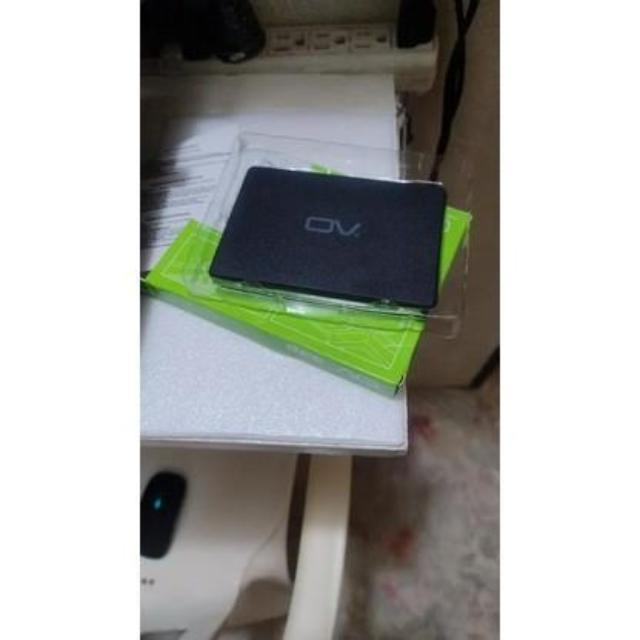DISK: (202, 162, 444, 316)
